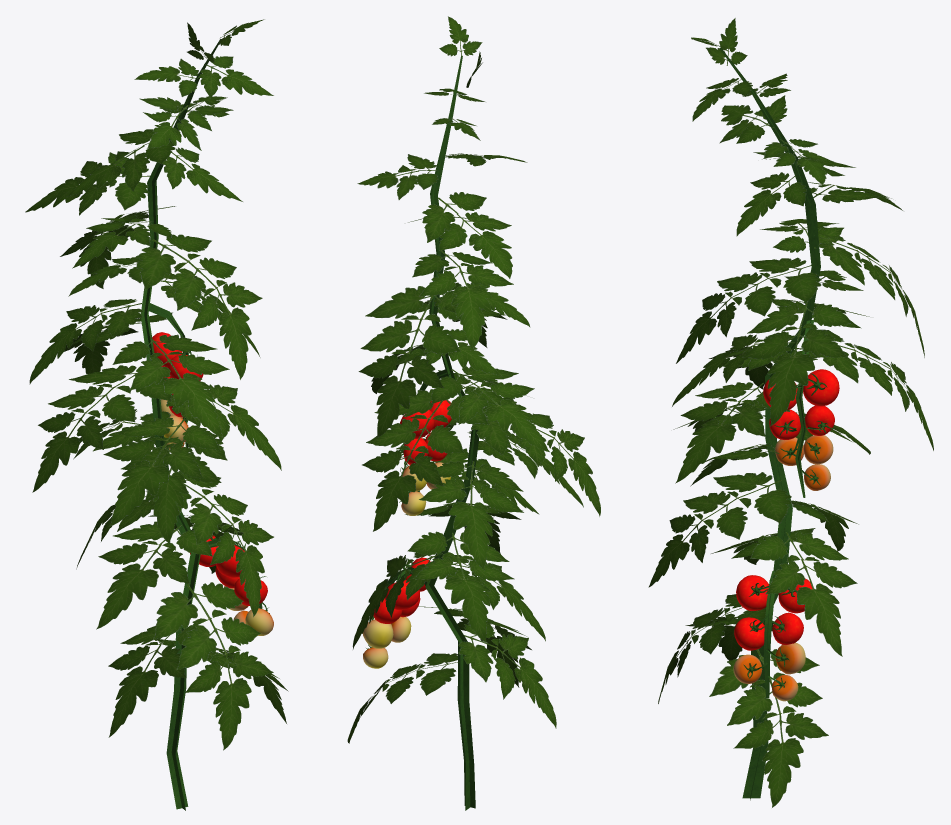
Rendered from tomato_3.fbx.
3 renders of one model, left to right at view 1: azimuth 30°, elevation 25°; view 2: azimuth 150°, elevation 25°; view 3: azimuth 270°, elevation 25°, orthographic. The views are drawn at different scales.
Parts seen in each view (by area): view 1: tomato_3; view 2: tomato_3; view 3: tomato_3.
Boxes of the visible parts, x1,y1,x2,y2 form: tomato_3: [25, 19, 288, 810]; tomato_3: [347, 16, 600, 810]; tomato_3: [648, 18, 933, 807].
Size of the model in its own units: 0.6493 by 1.9 by 0.64.
